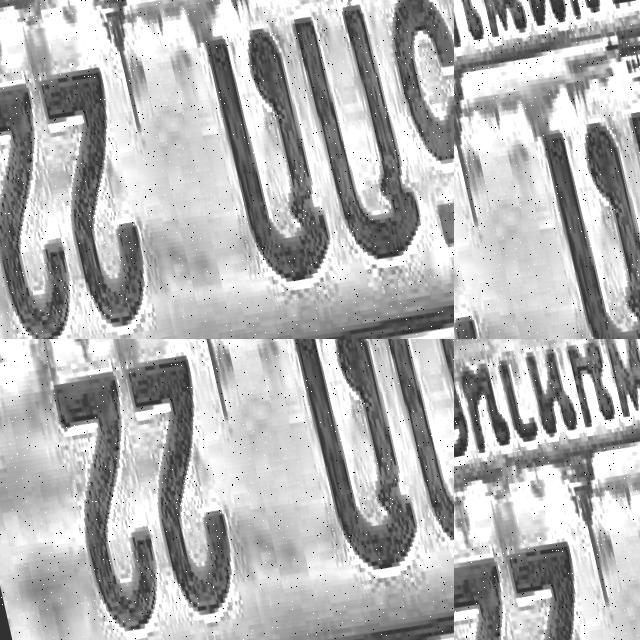license-plate: (200, 36, 454, 339), (223, 339, 454, 640), (454, 0, 640, 339), (454, 339, 640, 640)
